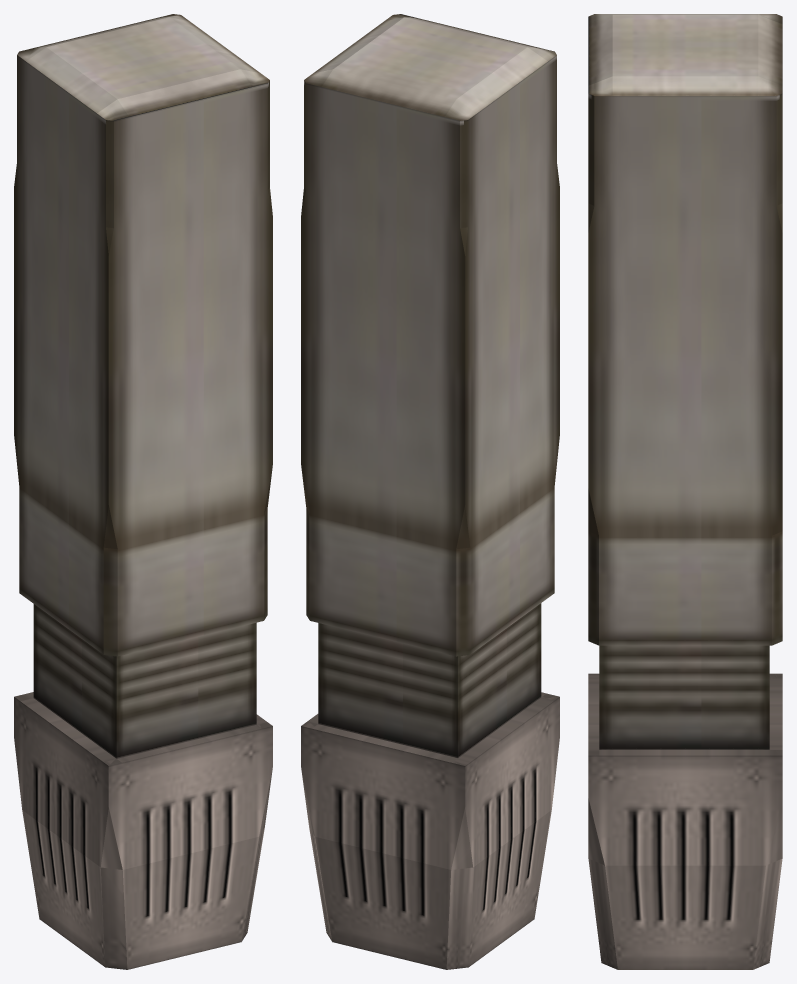
Rendered from office_column.fbx.
The picture shows the model from 3 angles, left to right: view 1: azimuth 30°, elevation 25°; view 2: azimuth 150°, elevation 25°; view 3: azimuth 270°, elevation 25°; orthographic projection. The views are drawn at different scales.
Visible parts, largest first — view 1: Cube; view 2: Cube; view 3: Cube.
Boxes of the visible parts, x1,y1,x2,y2 form: Cube: (14, 14, 272, 969); Cube: (301, 14, 559, 969); Cube: (588, 14, 782, 969).
Size of the model in its own units: 200 by 1011 by 200.
Materials: 1 (1 with a texture image).
